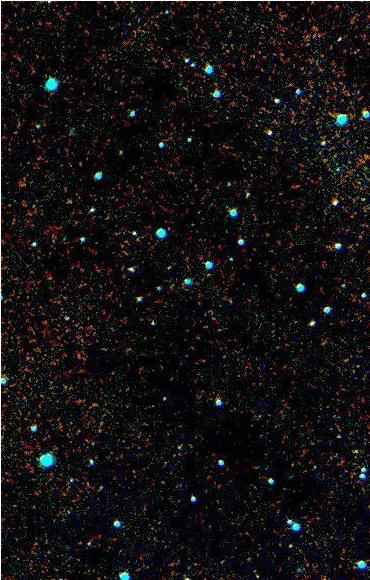star: (276, 531, 306, 561)
